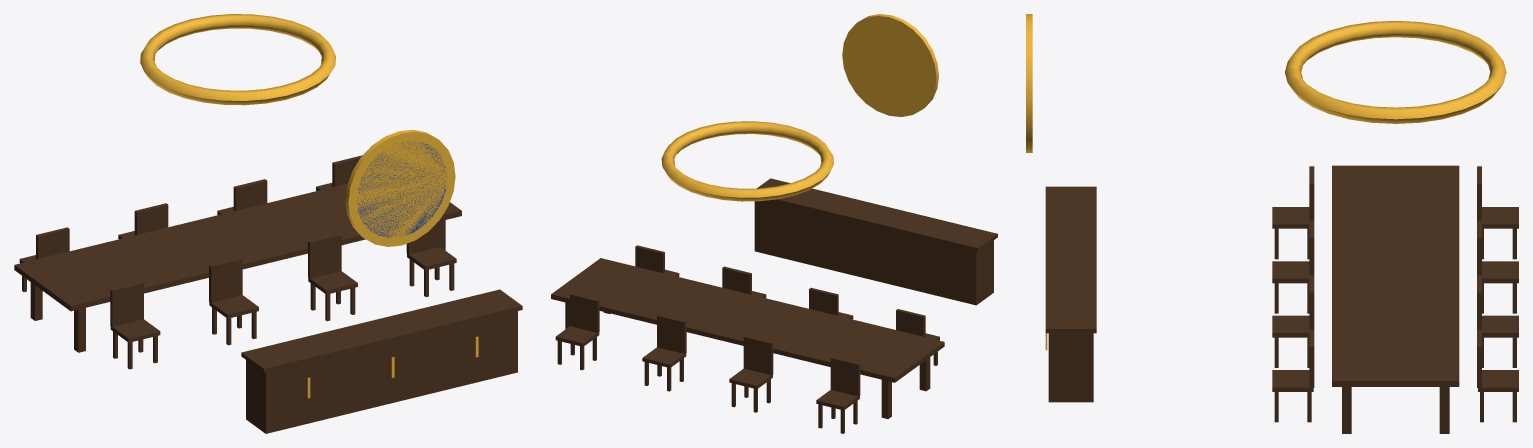
The model's file is SM_Interior_obelisk_dining_Props.fbx.
3 views of the same model, side by side, from view 1: azimuth 30°, elevation 25°; view 2: azimuth 150°, elevation 25°; view 3: azimuth 270°, elevation 25° (orthographic). The views are drawn at different scales.
Visible parts, largest first — view 1: SM_Interior_obelisk_dining_Props; view 2: SM_Interior_obelisk_dining_Props; view 3: SM_Interior_obelisk_dining_Props.
Boxes of the visible parts, x1,y1,x2,y2 form: SM_Interior_obelisk_dining_Props: (14, 14, 522, 433); SM_Interior_obelisk_dining_Props: (551, 14, 997, 433); SM_Interior_obelisk_dining_Props: (1026, 14, 1518, 433).
Size of the model in its own units: 6.2 by 4.2 by 6.
